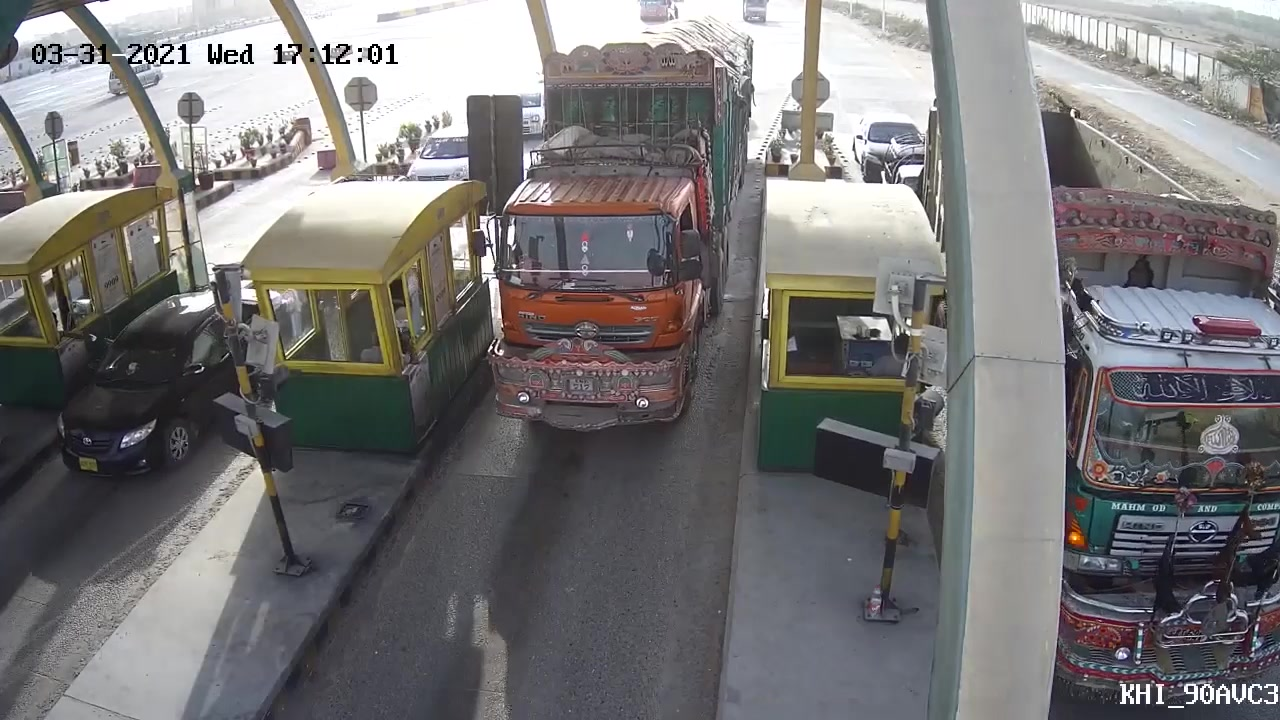F6: (466, 9, 763, 440)
